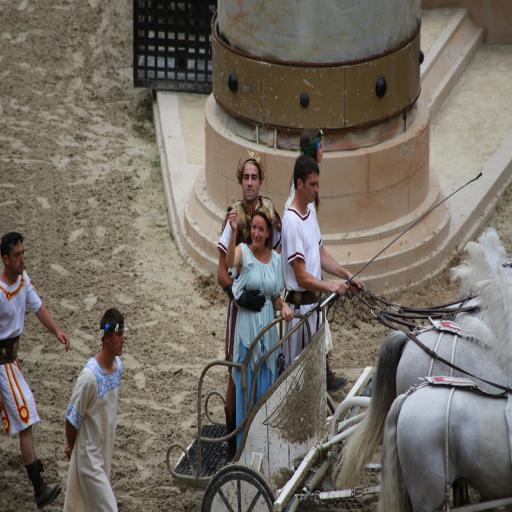horse: (332, 317, 511, 511), (375, 384, 512, 512), (447, 258, 512, 326)
